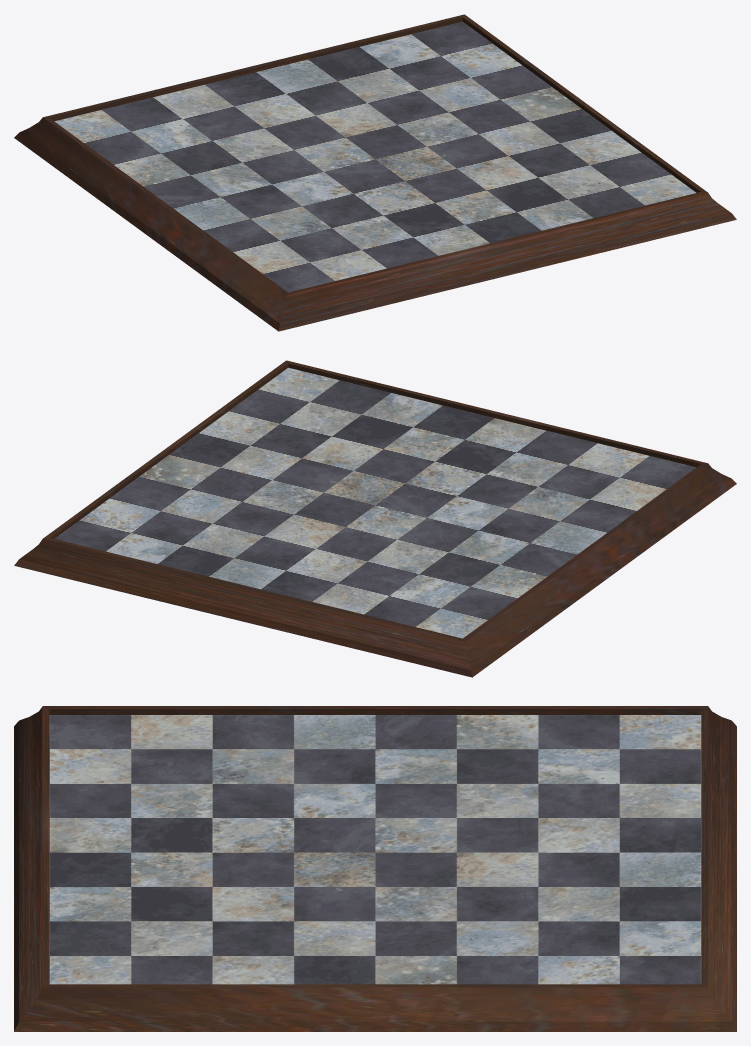
The model's file is board.obj.
The picture shows the model from 3 angles, top to bottom: view 1: azimuth 30°, elevation 25°; view 2: azimuth 150°, elevation 25°; view 3: azimuth 270°, elevation 25°; orthographic projection. The views are drawn at different scales.
Parts seen in each view (by area): view 1: Cube; view 2: Cube; view 3: Cube.
Boxes of the visible parts, <box> form: Cube: <box>14,14,736,331</box>; Cube: <box>14,360,736,677</box>; Cube: <box>14,706,736,1031</box>.
Size of the model in its own units: 8.88 by 0.4413 by 8.88.
